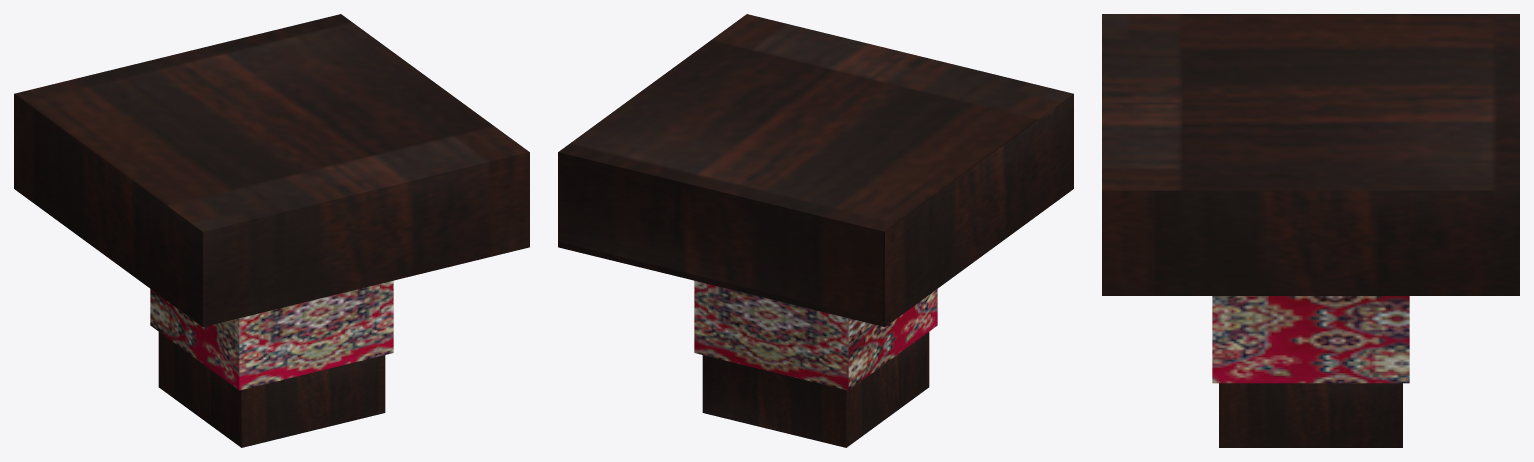
The model's file is stool.fbx.
3 renders of one model, left to right at view 1: azimuth 30°, elevation 25°; view 2: azimuth 150°, elevation 25°; view 3: azimuth 270°, elevation 25°, orthographic. The views are drawn at different scales.
Parts seen in each view (by area): view 1: pCube5; view 2: pCube5; view 3: pCube5.
Part boxes in pixels (x1,y1,x2,y2): pCube5: (14, 14, 529, 447); pCube5: (558, 14, 1073, 447); pCube5: (1102, 14, 1519, 447).
Size of the model in its own units: 13.23 by 10.71 by 13.23.
